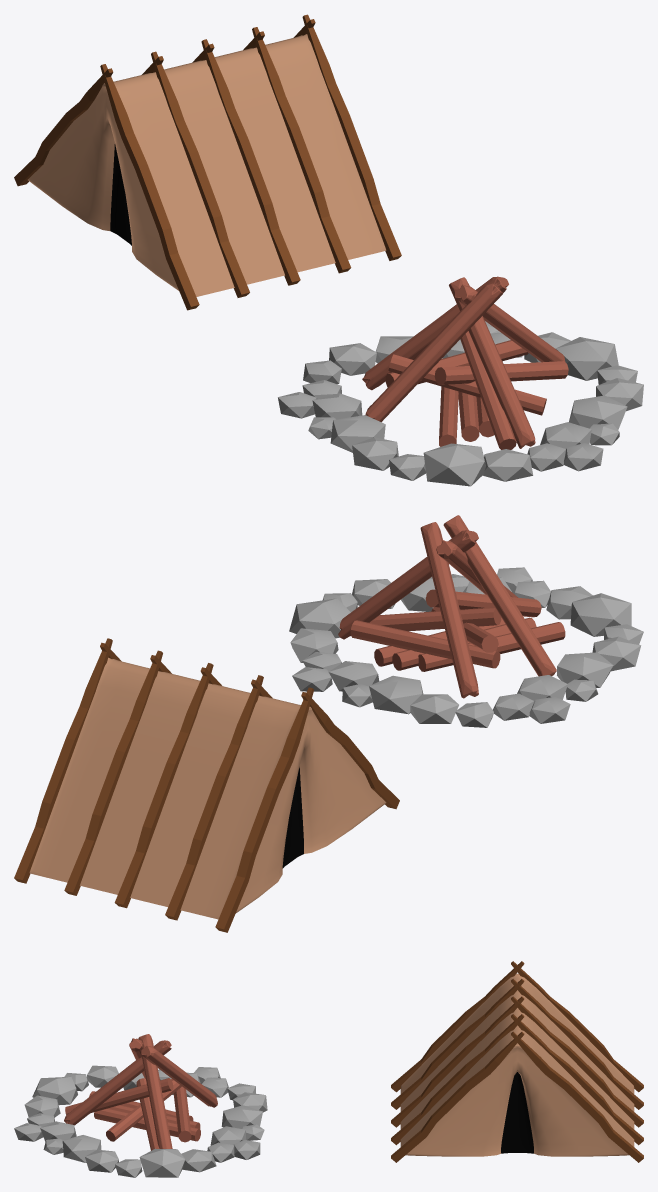
Rendered from FireBase.fbx.
The picture shows the model from 3 angles, top to bottom: view 1: azimuth 30°, elevation 25°; view 2: azimuth 150°, elevation 25°; view 3: azimuth 270°, elevation 25°; orthographic projection. The views are drawn at different scales.
Visible parts, largest first — view 1: Plane.001, Icosphere, Cube.006, Cylinder.001, Cylinder.003, Cylinder.002, Cylinder.006, Cylinder.010, Cylinder.009, Cylinder.005, Cylinder.007, Cylinder.011 (+1 smaller); view 2: Plane.001, Icosphere, Cube.006, Cylinder.006, Cylinder.001, Cylinder.002, Cylinder.011, Cylinder.009, Cylinder.007, Cylinder.010, Cylinder.003, Cylinder.004 (+1 smaller); view 3: Plane.001, Cube.006, Icosphere, Cylinder.003, Cylinder.002, Cylinder.006, Cylinder.010, Cylinder.008, Cylinder.005, Cylinder.011, Cylinder.009.
Part boxes in pixels (x1,y1,x2,y2): Plane.001: [28, 34, 386, 296]; Icosphere: [278, 321, 643, 486]; Cube.006: [14, 14, 401, 310]; Cylinder.001: [365, 283, 503, 422]; Cylinder.003: [449, 277, 535, 448]; Cylinder.002: [454, 284, 565, 362]; Cylinder.006: [362, 276, 508, 390]; Cylinder.010: [460, 331, 516, 449]; Cylinder.009: [434, 361, 568, 384]; Cylinder.005: [388, 354, 546, 415]; Cylinder.007: [439, 386, 458, 446]; Cylinder.011: [385, 340, 528, 387]; Plane.001: [29, 657, 386, 919]; Icosphere: [289, 567, 643, 727]; Cube.006: [14, 638, 399, 932]; Cylinder.006: [420, 522, 478, 698]; Cylinder.001: [443, 515, 556, 676]; Cylinder.002: [338, 530, 478, 639]; Cylinder.011: [350, 620, 500, 668]; Cylinder.009: [369, 607, 501, 631]; Cylinder.007: [418, 622, 565, 671]; Cylinder.010: [425, 589, 541, 617]; Cylinder.003: [436, 540, 517, 597]; Cylinder.004: [392, 617, 536, 670]; Plane.001: [400, 973, 634, 1156]; Cube.006: [391, 961, 643, 1162]; Icosphere: [14, 1065, 267, 1177]; Cylinder.003: [64, 1040, 171, 1125]; Cylinder.002: [138, 1034, 172, 1148]; Cylinder.006: [141, 1045, 217, 1107]; Cylinder.010: [65, 1078, 173, 1114]; Cylinder.008: [94, 1108, 200, 1141]; Cylinder.005: [106, 1079, 181, 1141]; Cylinder.011: [173, 1086, 191, 1142]; Cylinder.009: [136, 1078, 159, 1150].
Size of the model in its own units: 2663 by 1596 by 6715.
